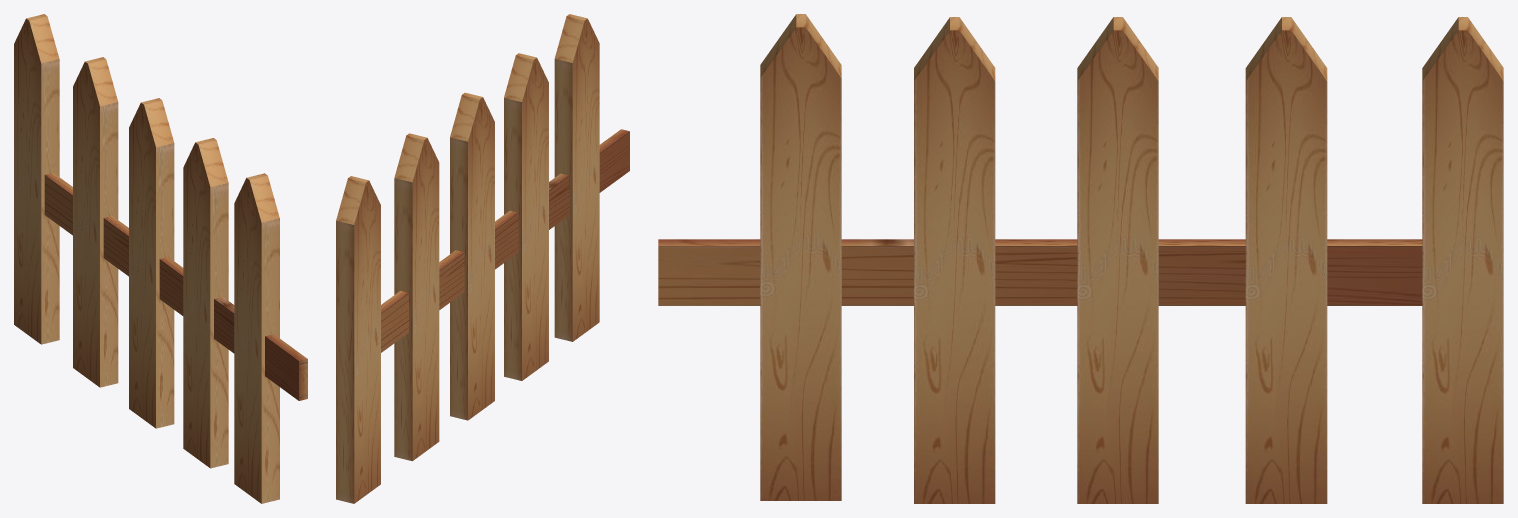
The model's file is cercaAjuste.fbx.
The picture shows the model from 3 angles, left to right: view 1: azimuth 30°, elevation 25°; view 2: azimuth 150°, elevation 25°; view 3: azimuth 270°, elevation 25°; orthographic projection. The views are drawn at different scales.
Visible parts, largest first — view 1: Cube.026; view 2: Cube.026; view 3: Cube.026.
Part boxes in pixels (bbox=[...]): Cube.026: bbox=[14, 14, 307, 503]; Cube.026: bbox=[336, 14, 629, 503]; Cube.026: bbox=[658, 14, 1503, 503].
Size of the model in its own units: 3.7 by 61.26 by 98.52.
Materials: 1 (1 with a texture image).
